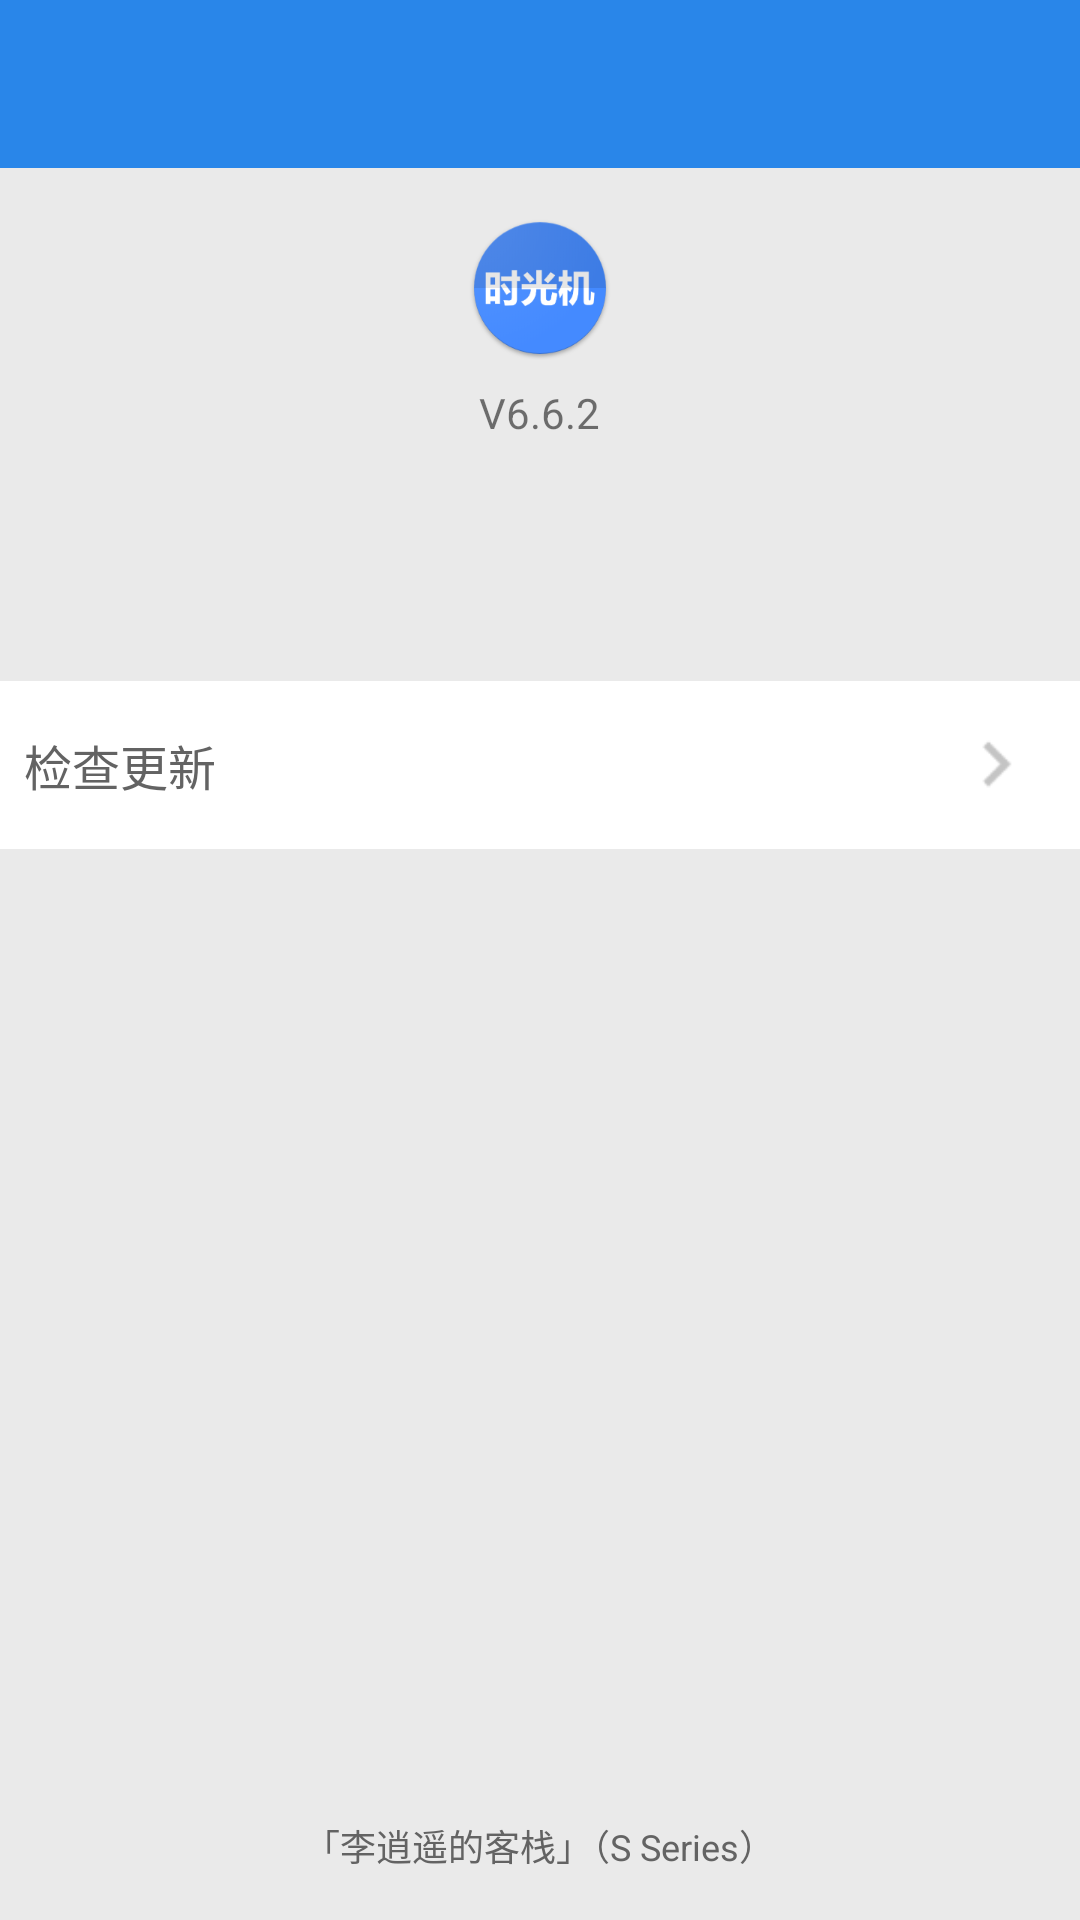

Icon bounding boxes for this 1080px×1920px phone screenshot, format detection(x1, y1, x2, y2):
arrow right: detection(984, 742, 1010, 786)
